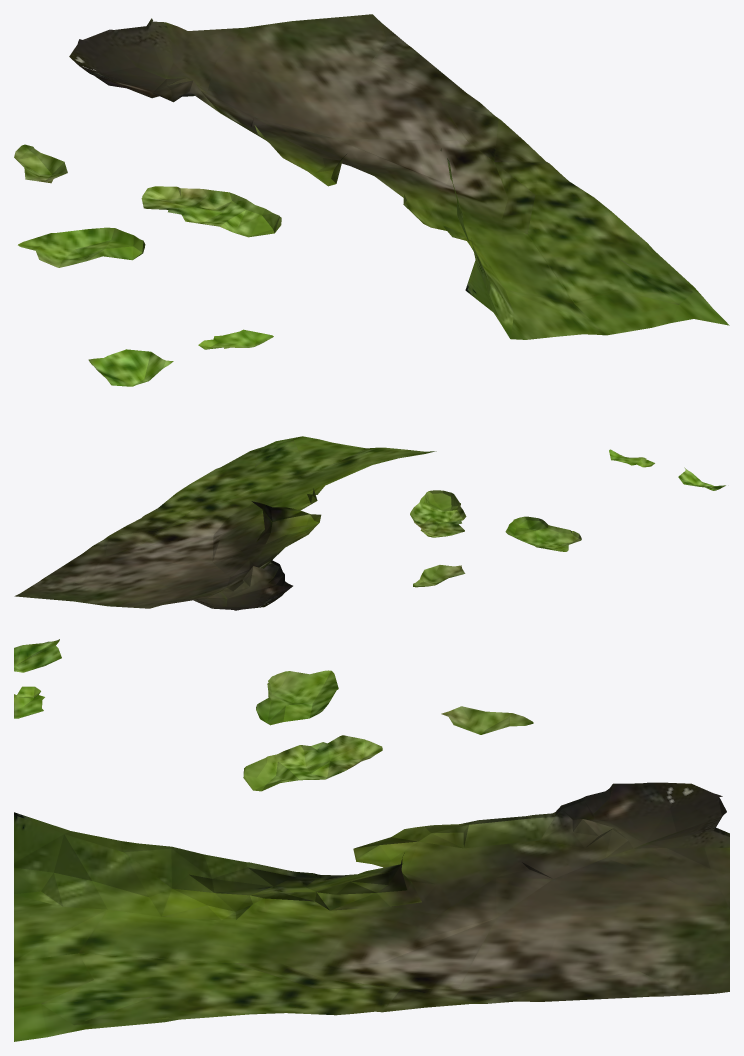
The picture shows the model from 3 angles, top to bottom: view 1: azimuth 30°, elevation 25°; view 2: azimuth 150°, elevation 25°; view 3: azimuth 270°, elevation 25°; orthographic projection. The views are drawn at different scales.
Bounding box in the file's own units: 3.35 × 0.5181 × 3.35.
2 materials, 2 textured.
